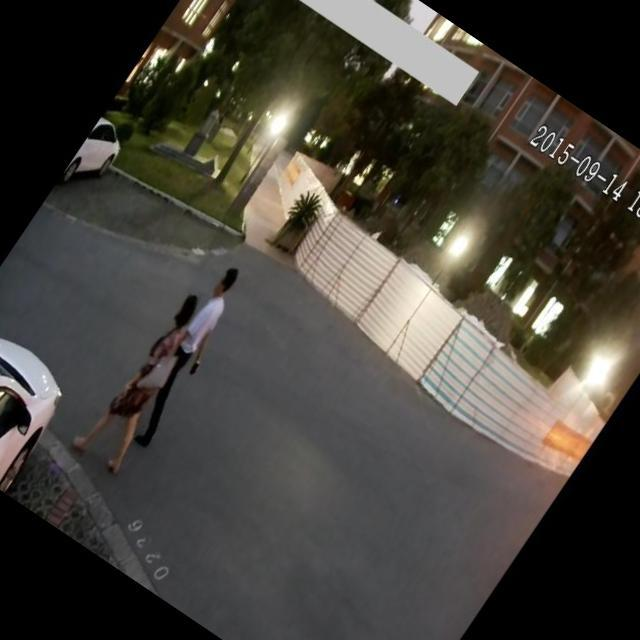person: (62, 280, 230, 483), (111, 255, 266, 458)
